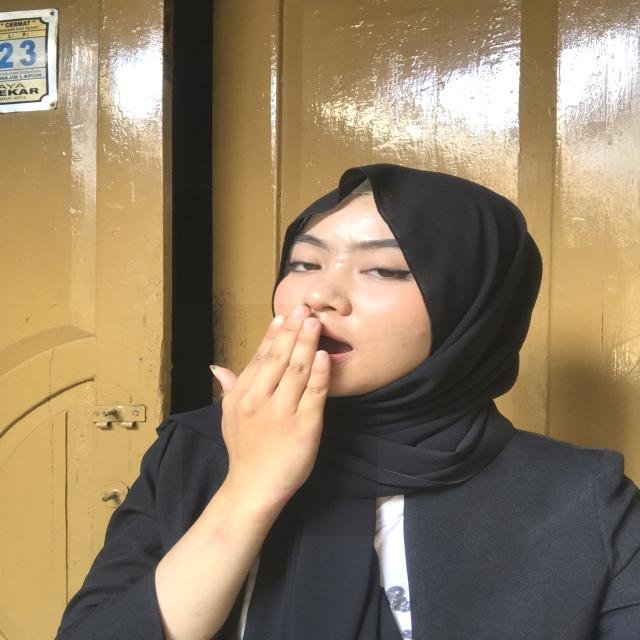ngantuk: (182, 304, 378, 536)
